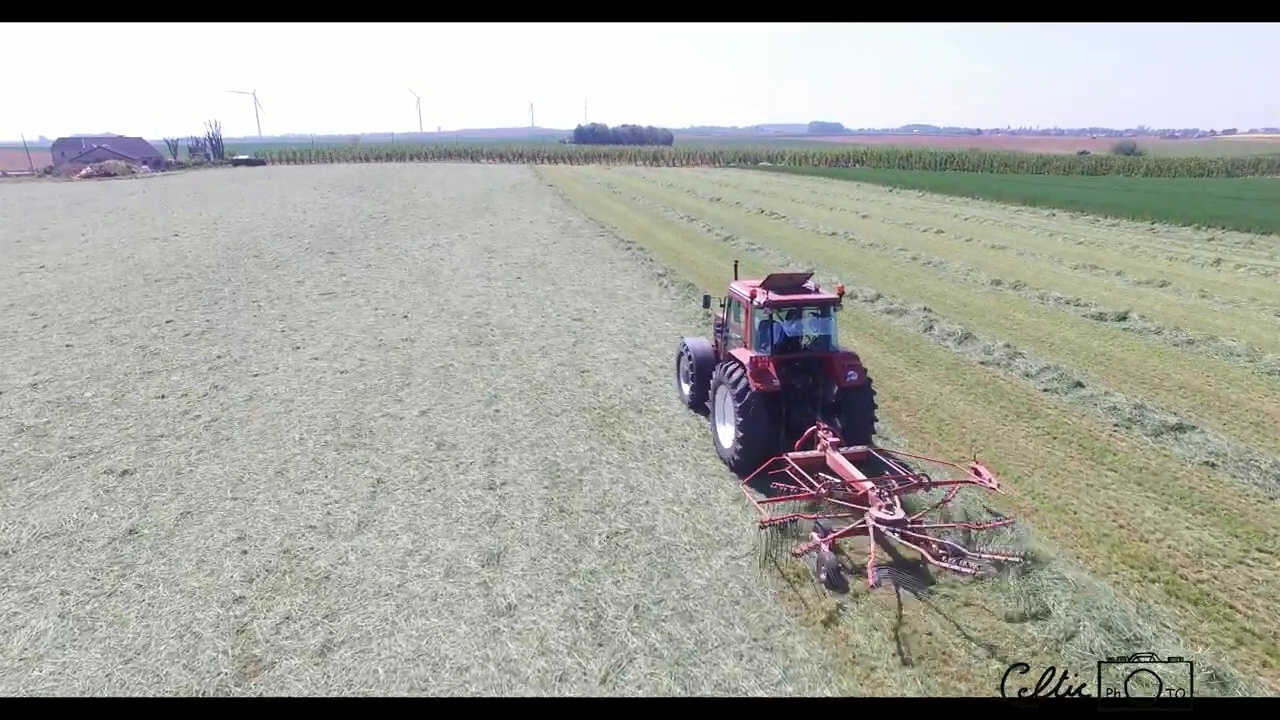traktor: (673, 259, 882, 471)
